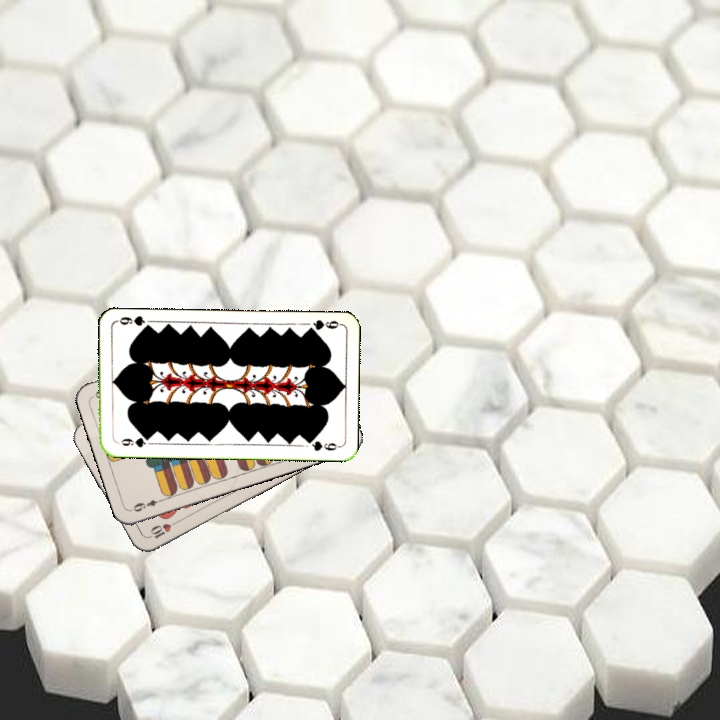E9: (128, 494, 167, 514)
G9: (302, 316, 343, 335), (112, 433, 153, 450)
H10: (144, 517, 182, 541)
